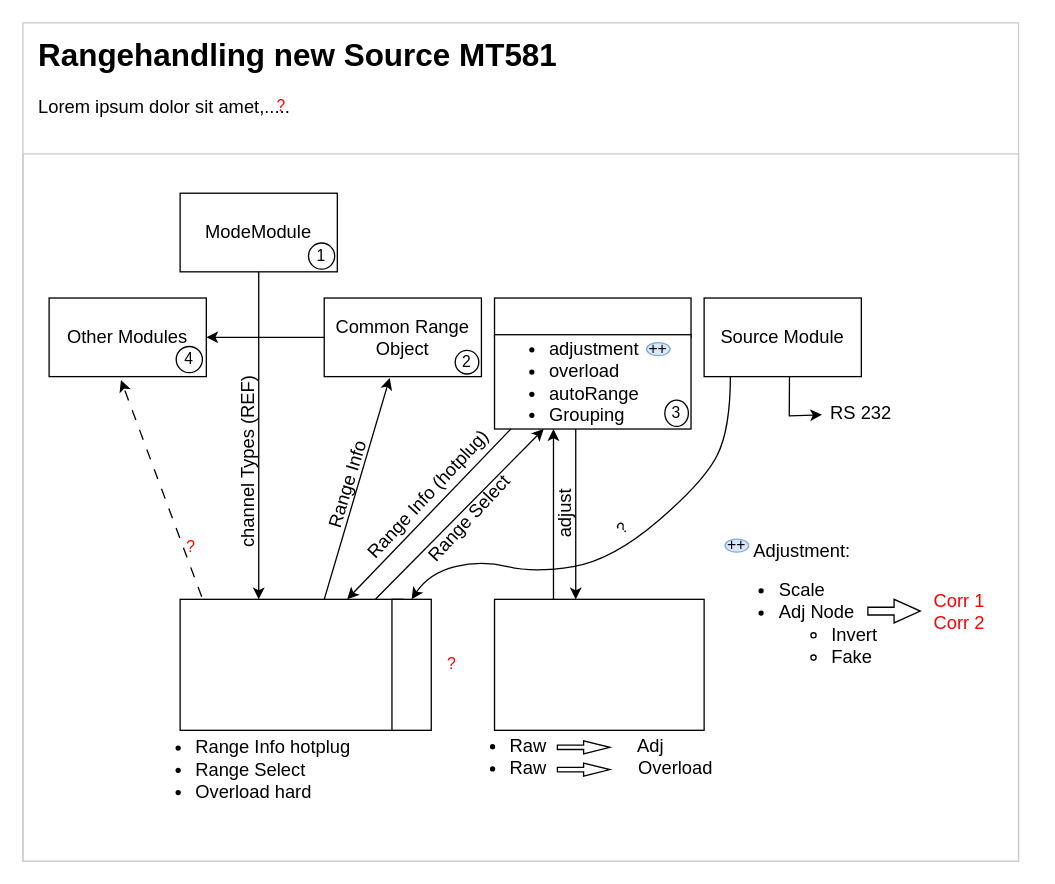
Some shapes in this 1055 by 884 pixel diagram are drawn without their labels. The shapes that lost their labels are listed below. From the top down, each one's centre as x and y in pixels, then its label:
At (x=592, y=317): "Range Module".
At (x=291, y=664): "mt310s2d com5003d".
At (x=411, y=664): "S O U R C E S".
At (x=598, y=664): "zdsp1d".
